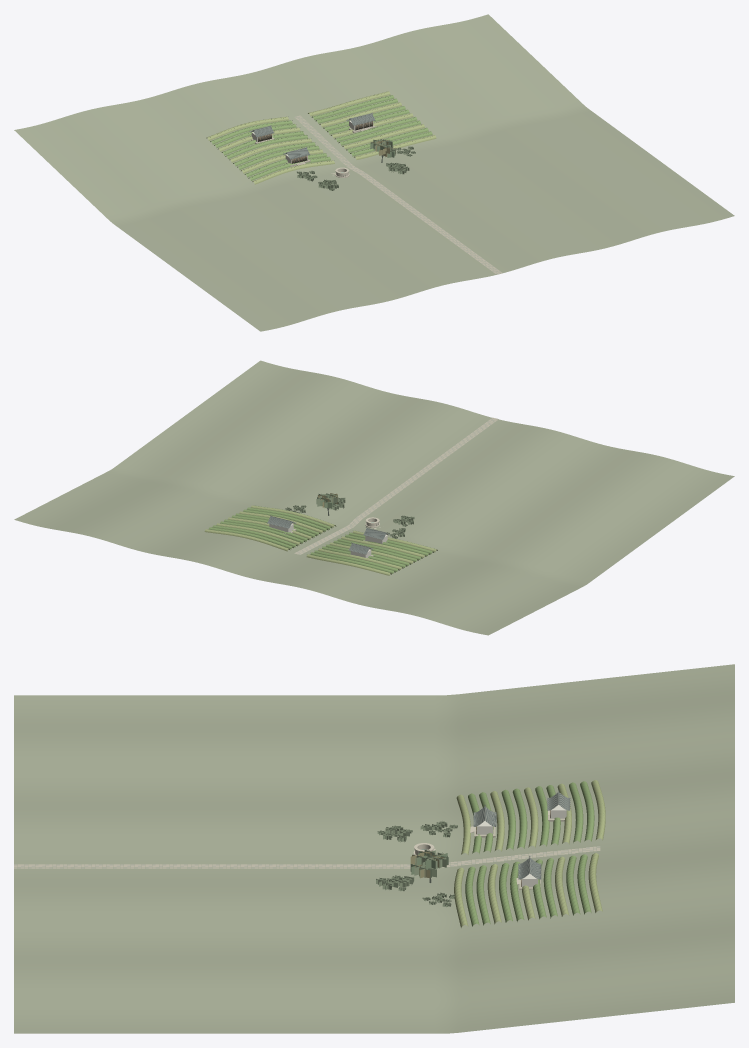
File: dragon-well.glb
The picture shows the model from 3 angles, top to bottom: view 1: azimuth 30°, elevation 25°; view 2: azimuth 150°, elevation 25°; view 3: azimuth 270°, elevation 25°; orthographic projection. The views are drawn at different scales.
Parts seen in each view (by area): view 1: earth, tea, tealight, stone, crown1, stone2, ridge; view 2: earth, tea, tealight, stone, crown1, stone2, ridge, roof; view 3: earth, tea, tealight, stone, crown1, stone2, ridge, roof.
Boxes of the visible parts, x1,y1,x2,y2 form: earth: (14, 14, 734, 331); tea: (210, 95, 432, 180); tealight: (206, 91, 436, 184); stone: (251, 115, 501, 273); crown1: (297, 139, 415, 190); stone2: (294, 116, 500, 274); ridge: (250, 112, 375, 159); earth: (14, 360, 734, 635); tea: (209, 507, 434, 573); tealight: (204, 505, 437, 575); stone: (283, 417, 497, 558); crown1: (285, 493, 414, 538); stone2: (297, 418, 498, 554); ridge: (267, 515, 389, 554); roof: (267, 516, 389, 554); earth: (14, 664, 734, 1033); tea: (465, 781, 594, 926); tealight: (454, 780, 605, 927); stone: (14, 811, 600, 889); crown1: (376, 821, 457, 907); stone2: (14, 846, 600, 868); ridge: (473, 790, 570, 879); roof: (473, 792, 570, 879).
Bounding box in the file's own units: 250 × 11.98 × 225.
